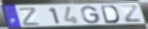1: (48, 7, 61, 24)
4: (64, 6, 80, 26)
D: (100, 5, 121, 24)
G: (80, 6, 101, 25)
Z: (18, 7, 42, 27), (120, 5, 143, 23)
